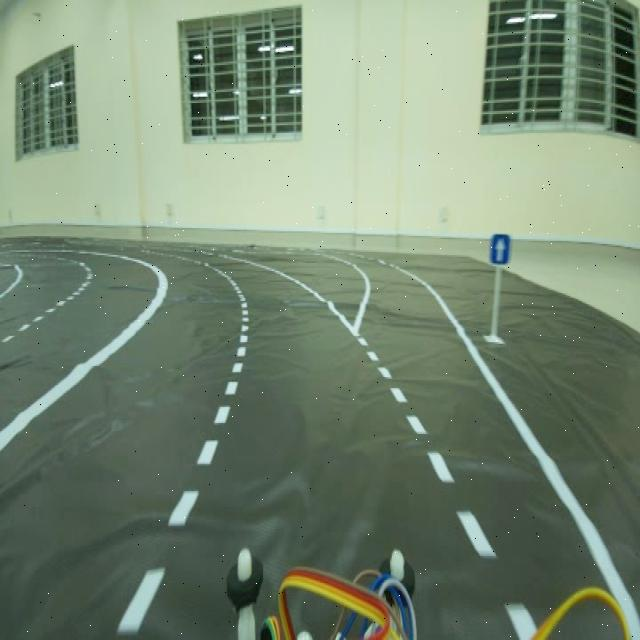onewayroad: (483, 222, 513, 282)
